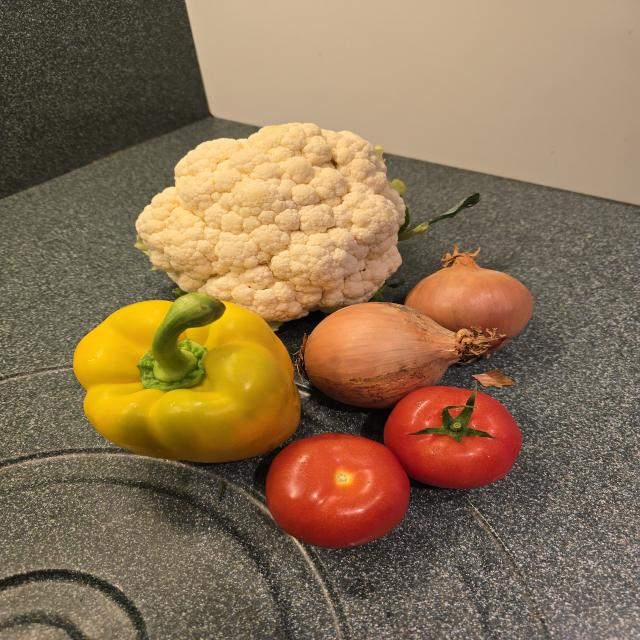Bell Pepper: (74, 292, 300, 462)
Cauliflower: (136, 123, 479, 321)
Onion: (303, 302, 500, 408), (404, 247, 533, 349)
Tomato: (266, 433, 410, 548), (384, 386, 521, 488)
